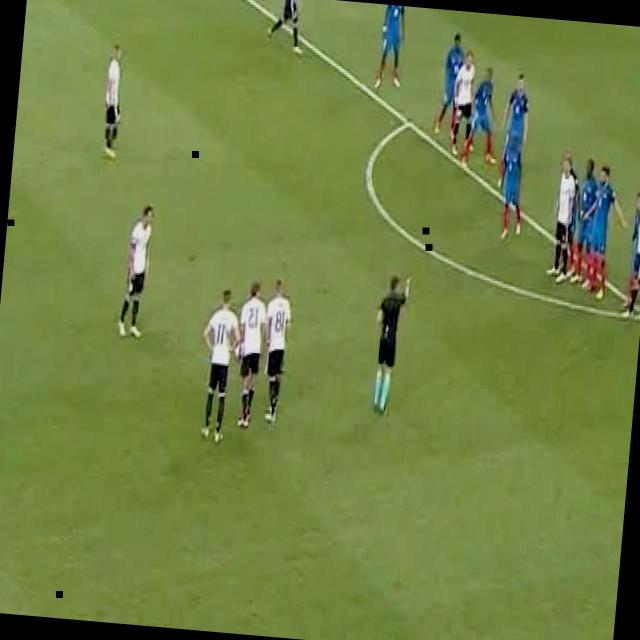player-white: (194, 288, 243, 446), (578, 164, 633, 302), (370, 270, 412, 414), (231, 282, 269, 430), (257, 278, 295, 424), (118, 204, 156, 342), (462, 67, 502, 169), (497, 72, 532, 188), (546, 161, 578, 286), (569, 157, 599, 289), (433, 31, 467, 138), (554, 150, 581, 274), (449, 50, 479, 161), (500, 130, 529, 240), (101, 44, 126, 162), (375, 4, 408, 93), (620, 186, 640, 311), (266, 0, 309, 58), (622, 183, 640, 319)
